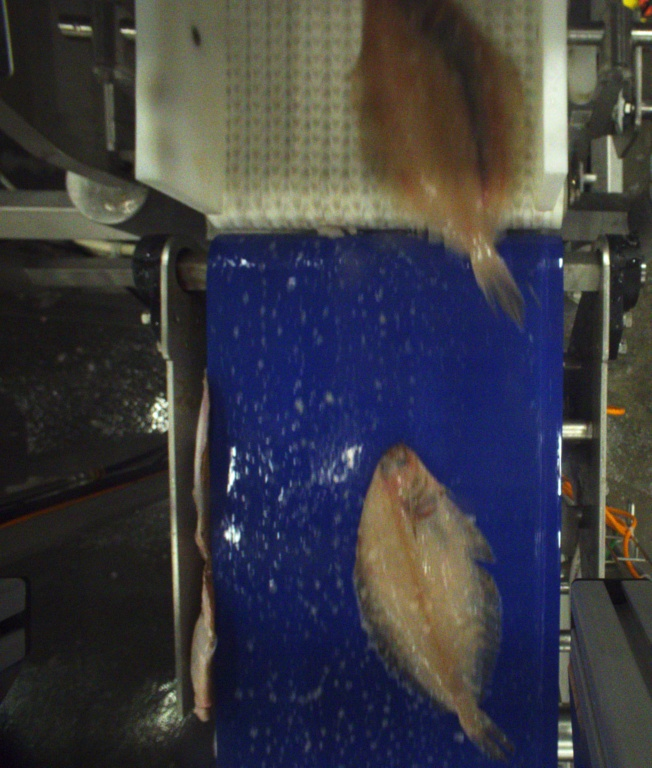WIT: (353, 445, 508, 757)
